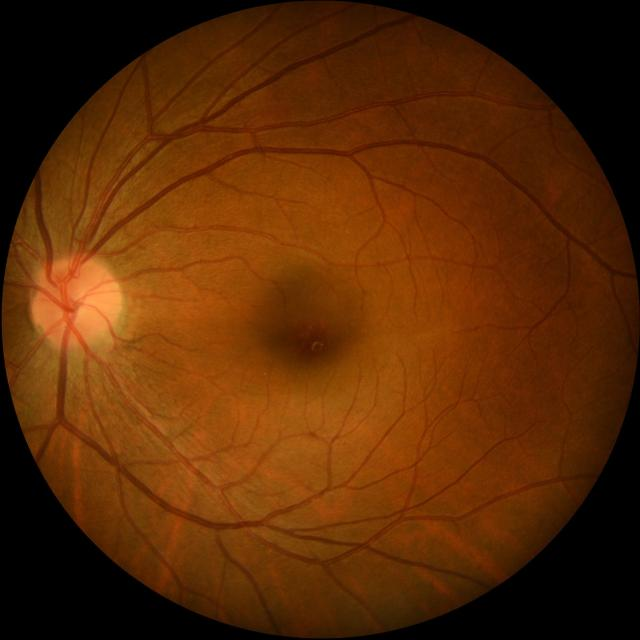OC: (63, 294, 89, 319)
OD: (30, 257, 120, 346)
